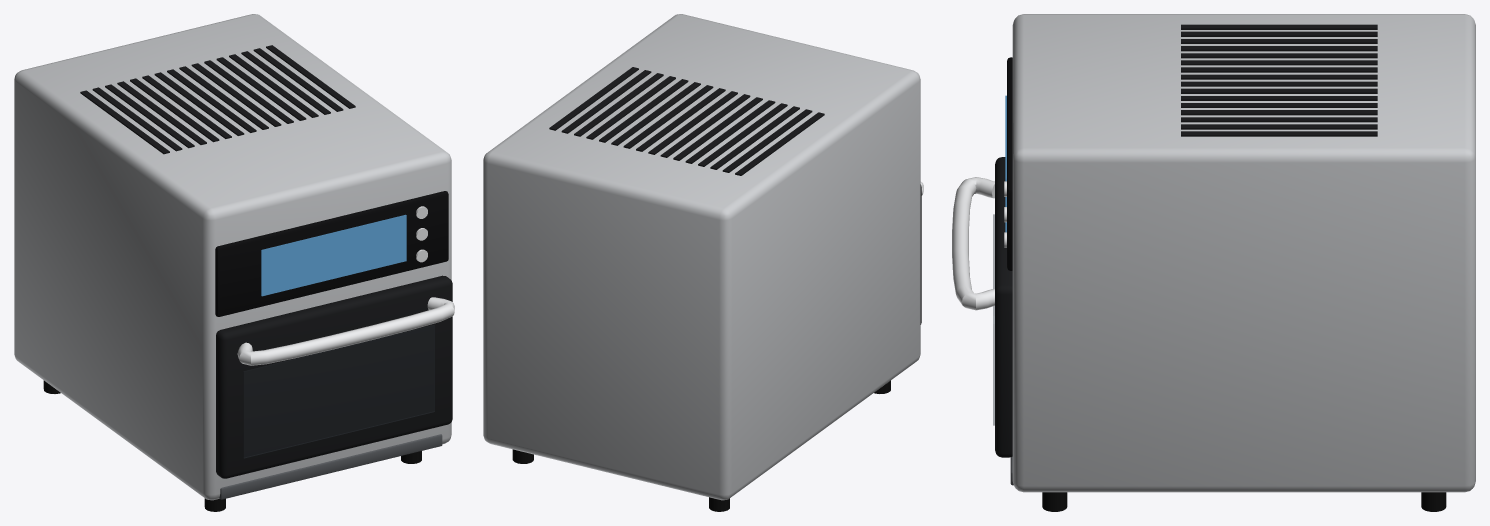
File: speed_oven.glb
3 renders of one model, left to right at view 1: azimuth 30°, elevation 25°; view 2: azimuth 150°, elevation 25°; view 3: azimuth 270°, elevation 25°, orthographic. The views are drawn at different scales.
Visible parts, largest first — view 1: speed; view 2: speed; view 3: speed.
Part boxes in pixels (bbox=[...]): speed: bbox=[14, 14, 454, 511]; speed: bbox=[483, 14, 923, 511]; speed: bbox=[952, 14, 1475, 511].
Size of the model in its own units: 0.48 by 0.5825 by 0.7464.
